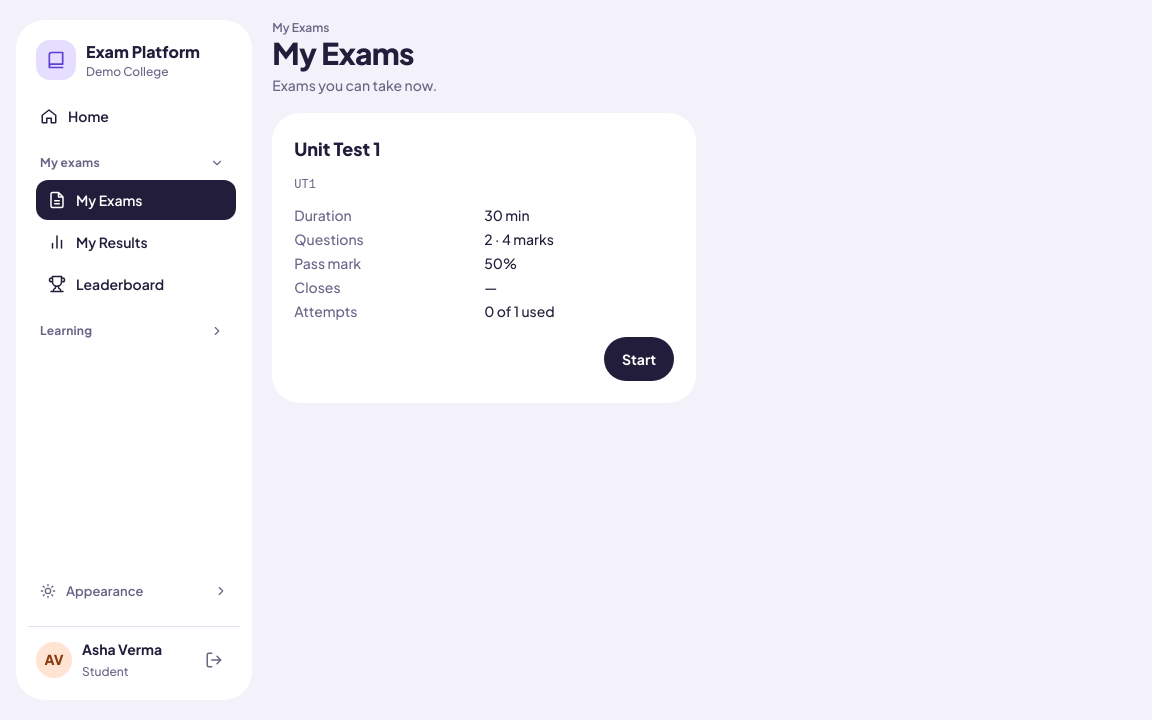
it: student exam screen › the exam list starts an attempt and opens the paper
Click the button with aria-label "Start Unit Test 1": (639, 359) x1=604 y1=337 x2=674 y2=381
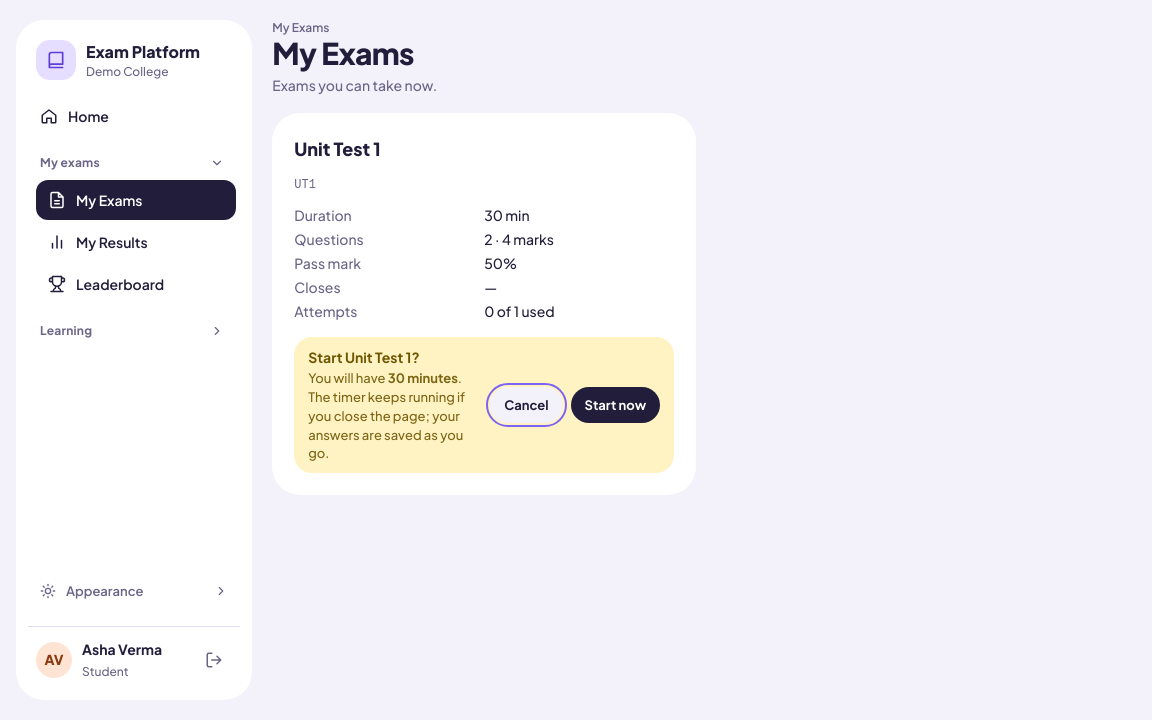
Click the button "Start now": (615, 405) x1=571 y1=387 x2=660 y2=423
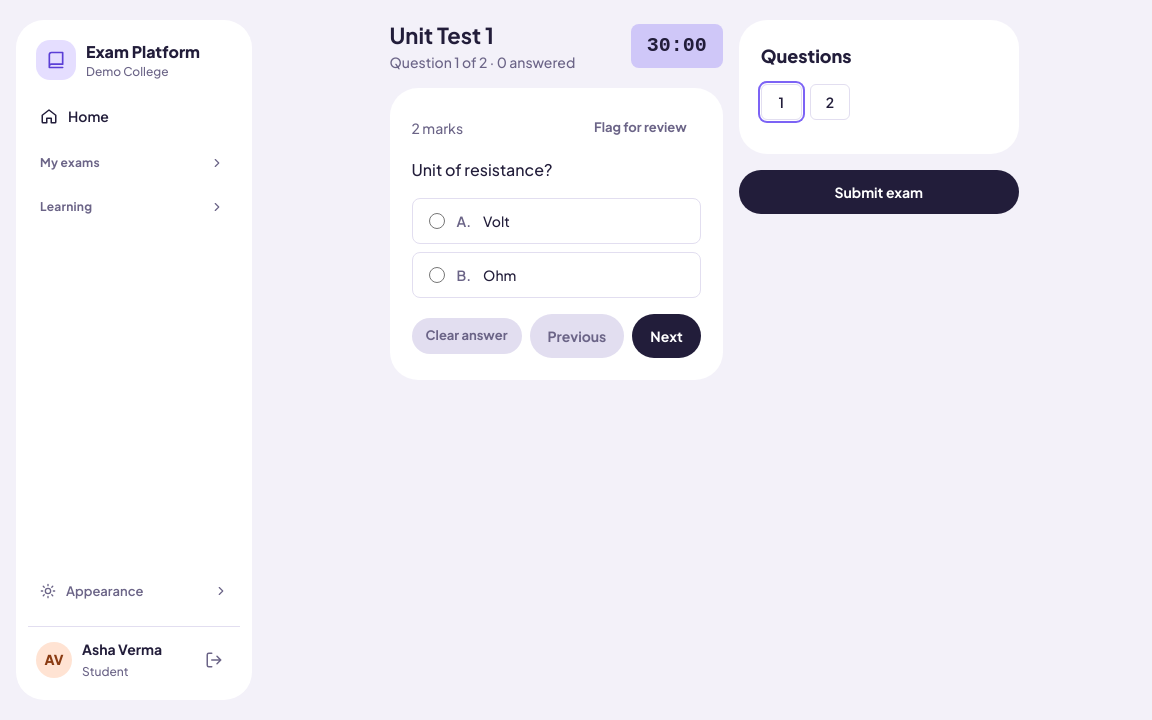
Check: the text "Unit of resistance?" is shown, box x1=412 y1=159 x2=552 y2=180
